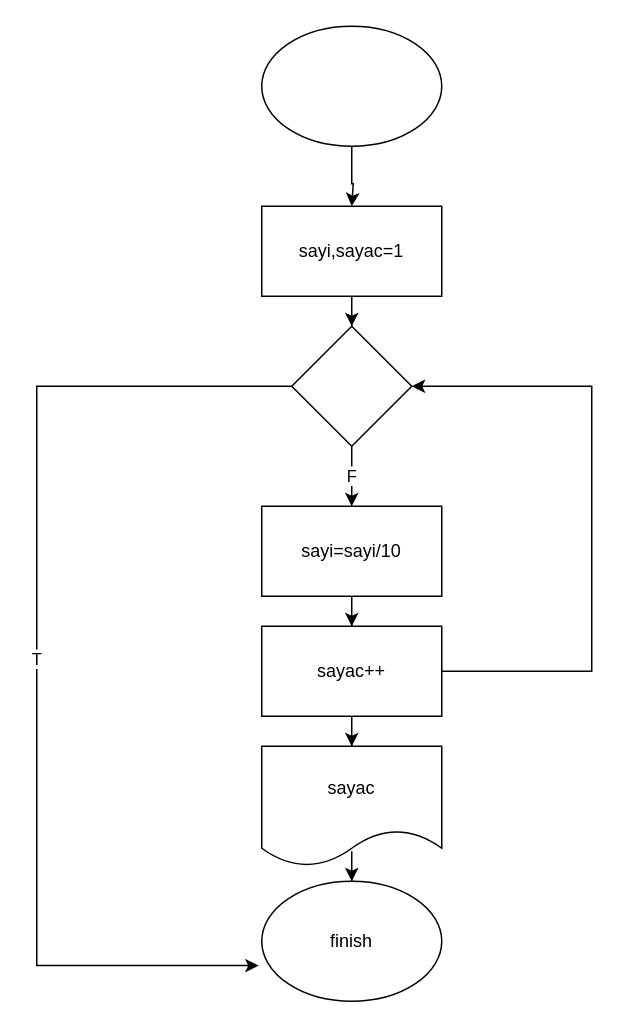
This 630x1028 diagram has some shape labels left out. The centre of each missing label's shape, as x and y in pixels:
sayi=<9: point (351, 385)
start: point (351, 85)
